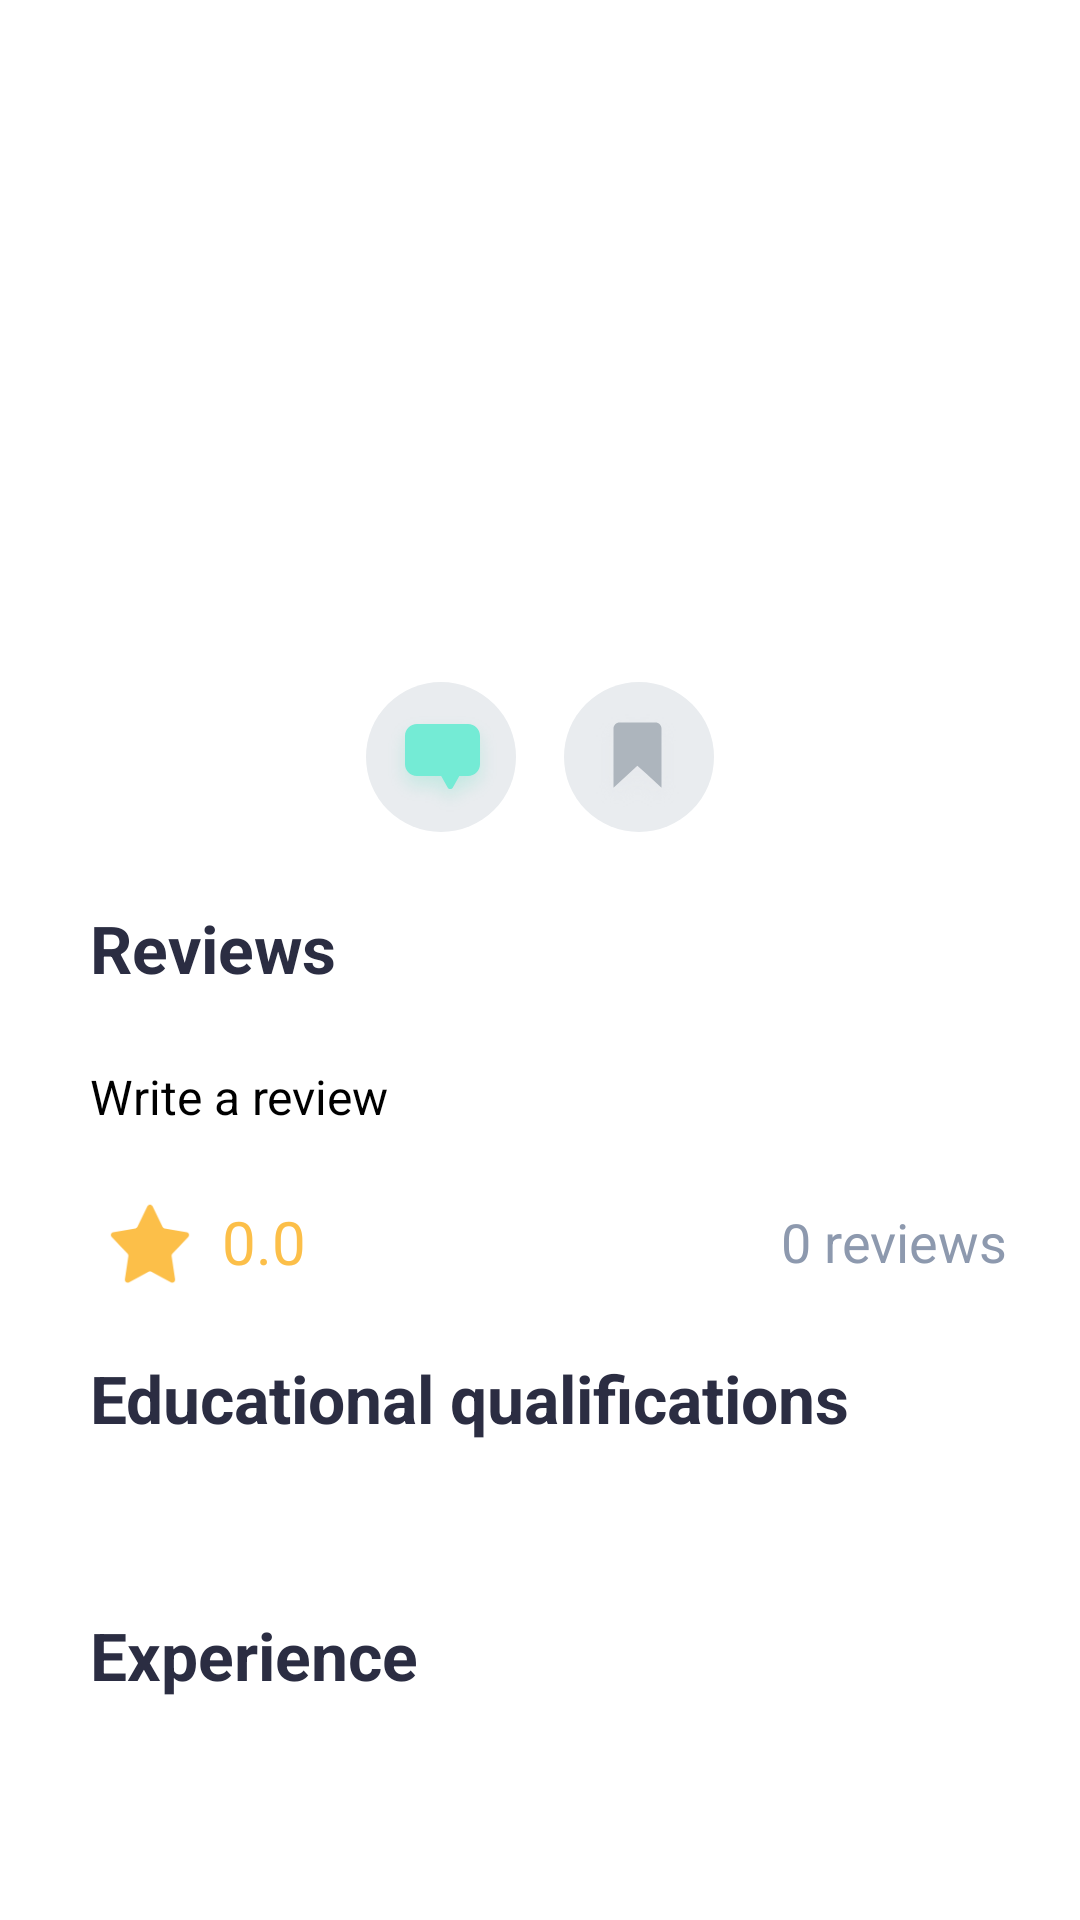

Icon click points for this 1080x1920 phone screenshot, format [x,y]:
bookmark: [637,755]
chat: [442,763]
star: [149,1243]
